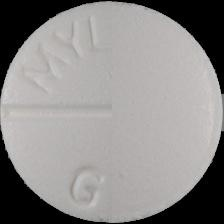0378-1110: (0, 0, 224, 224)
